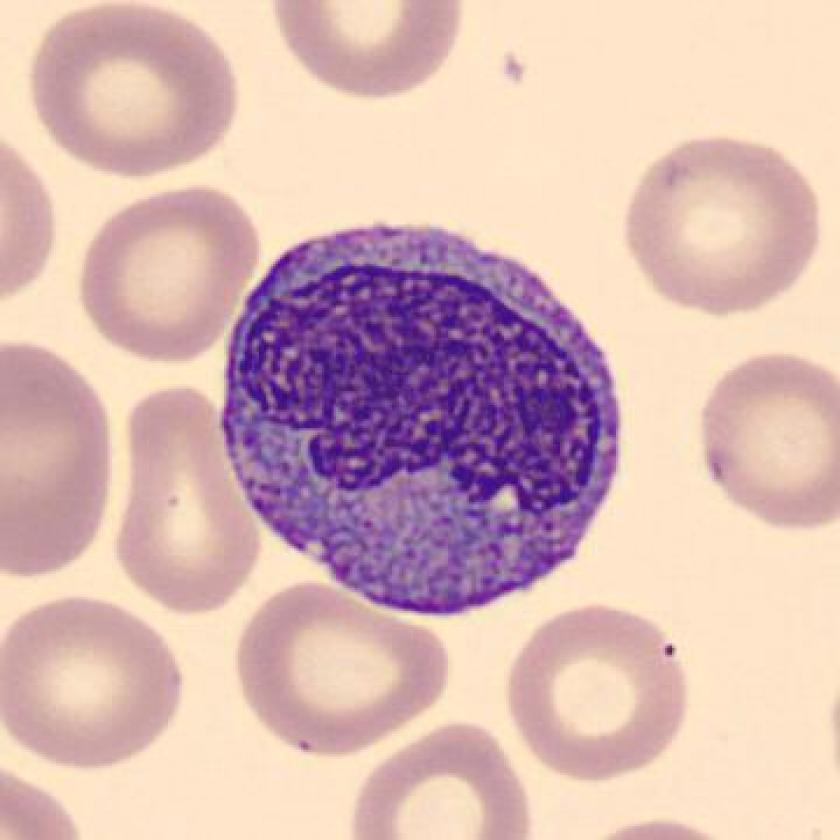monocyte: (200, 212, 641, 631)
